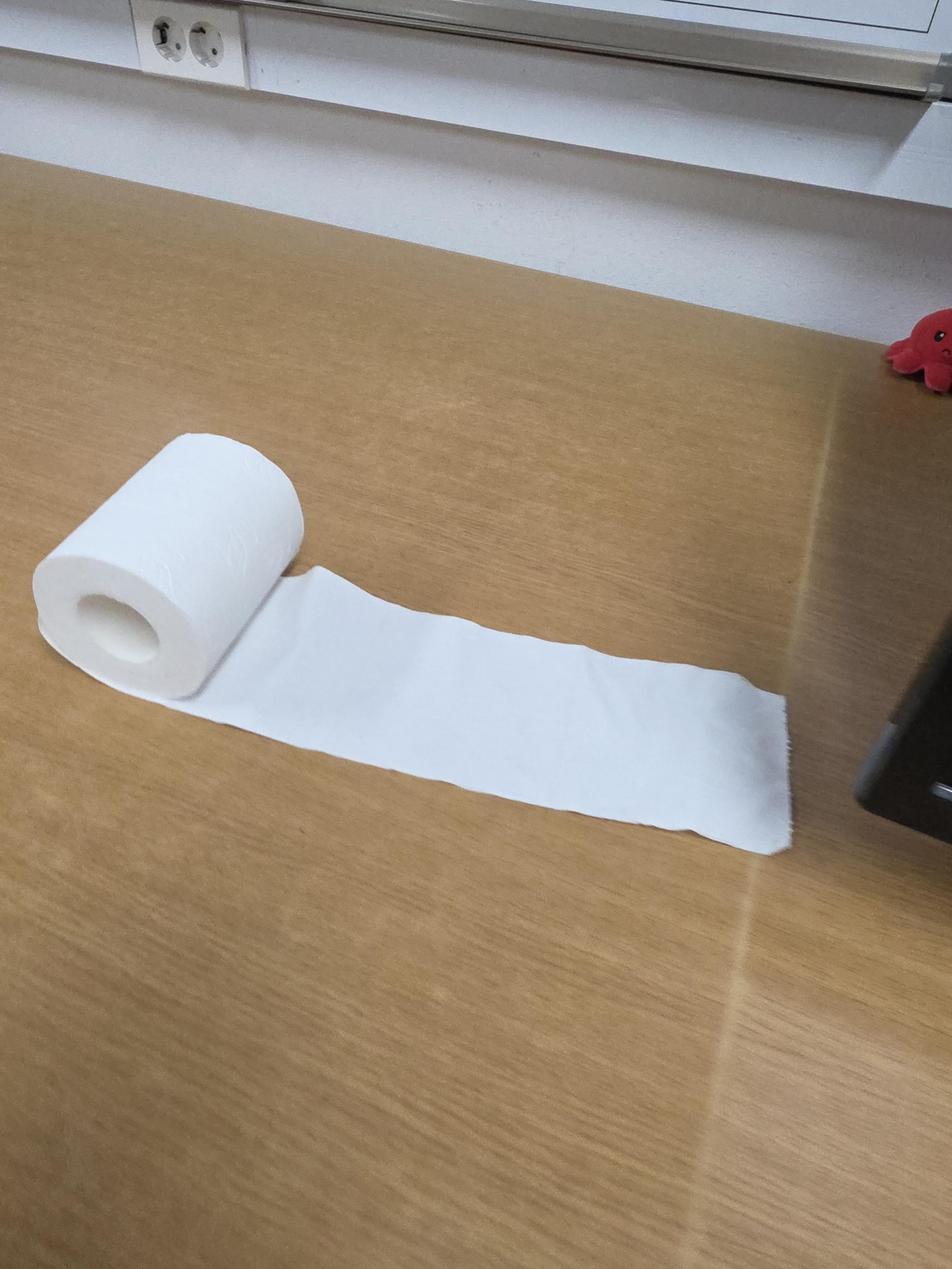tissue: (32, 432, 794, 856)
